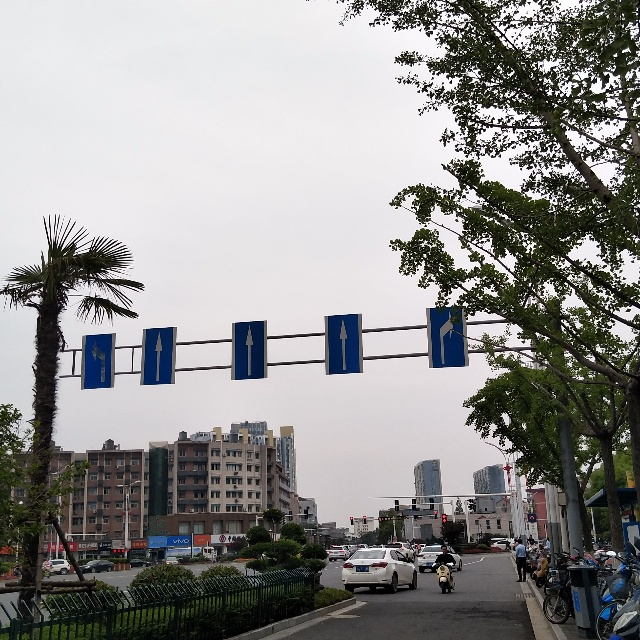left: (82, 333, 115, 390)
right: (426, 308, 469, 369)
straight: (325, 314, 364, 376), (231, 320, 268, 381), (140, 327, 177, 386)
